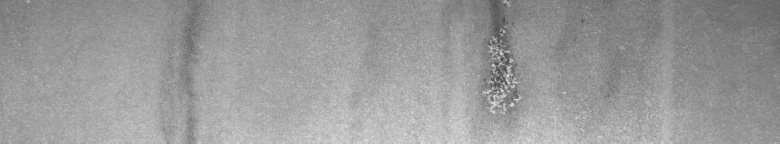hc: (476, 4, 591, 116)
